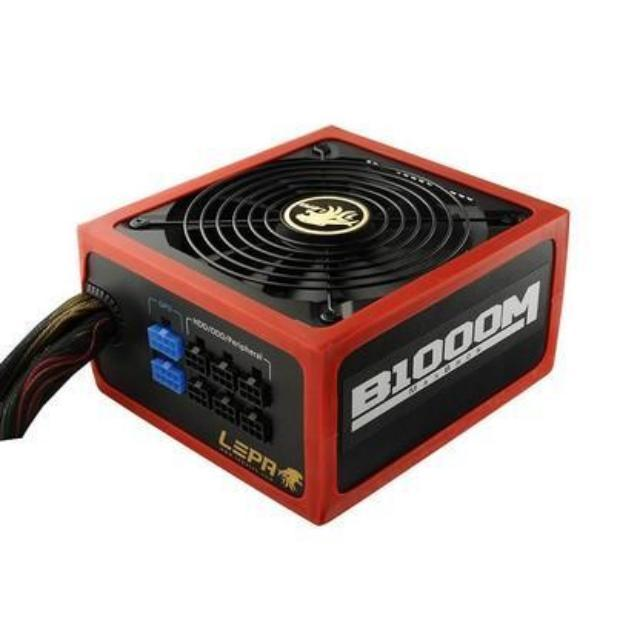PSU: (69, 108, 572, 530)
